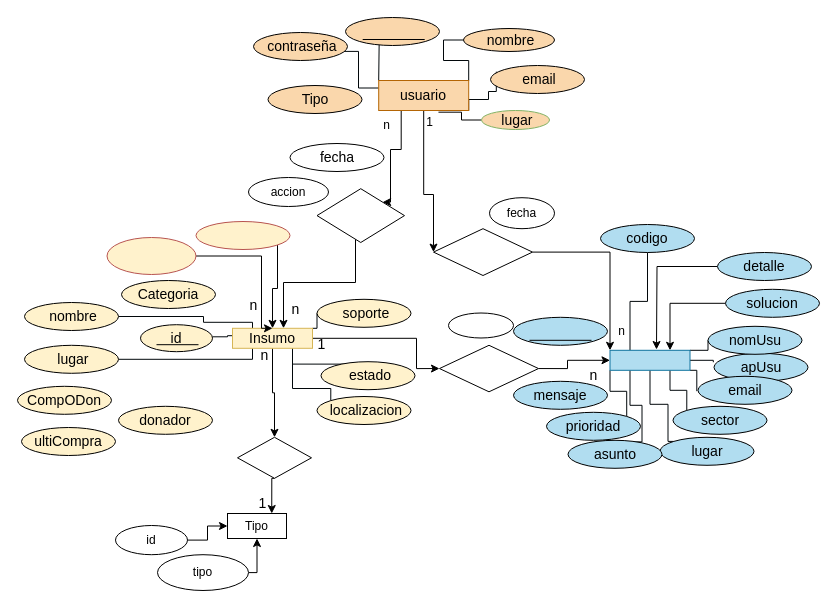
This 837x608 diagram has some shape labels left out. The box of each missing label's shape, as (x1, y1, x2, y2) in pixels:
cantComprado: (106, 236, 196, 274)
cantPedido: (195, 220, 290, 250)
cedula: (344, 16, 440, 46)
fechaTick: (448, 312, 514, 338)
gestiona: (316, 188, 404, 242)
numero: (512, 316, 608, 345)
Registra: (432, 228, 532, 276)
ticket: (609, 349, 690, 370)
Tiene: (438, 344, 538, 392)
tieneTipo: (236, 436, 312, 478)
